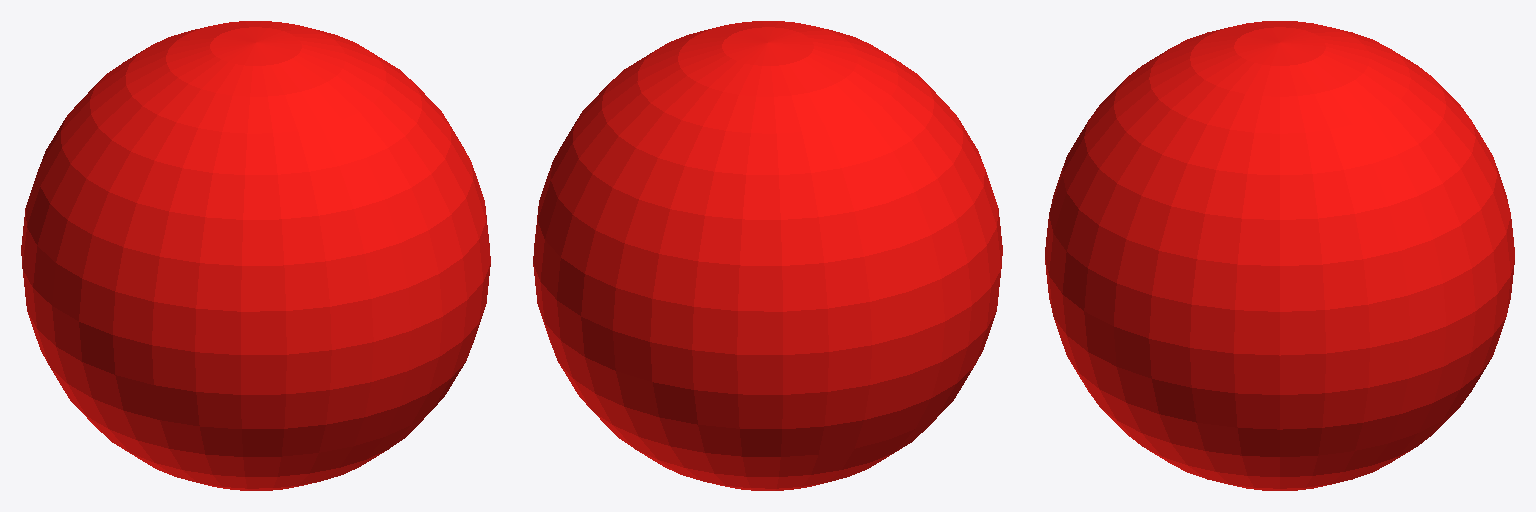
The model's file is redsphere.obj.
3 views of the same model, side by side, from view 1: azimuth 30°, elevation 25°; view 2: azimuth 150°, elevation 25°; view 3: azimuth 270°, elevation 25° (orthographic).
Parts seen in each view (by area): view 1: Sphere; view 2: Sphere; view 3: Sphere.
Boxes of the visible parts, x1,y1,x2,y2 form: Sphere: [21, 21, 490, 490]; Sphere: [533, 21, 1002, 490]; Sphere: [1045, 21, 1514, 490].
Size of the model in its own units: 2 by 2 by 2.